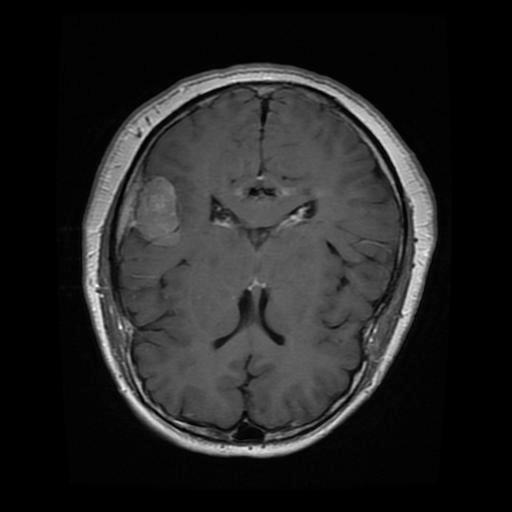Tumour-Meningioma: (125, 168, 202, 254)
